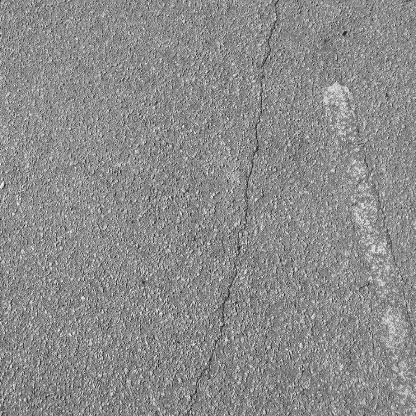Cracks: (183, 101, 267, 416), (257, 0, 286, 100)
